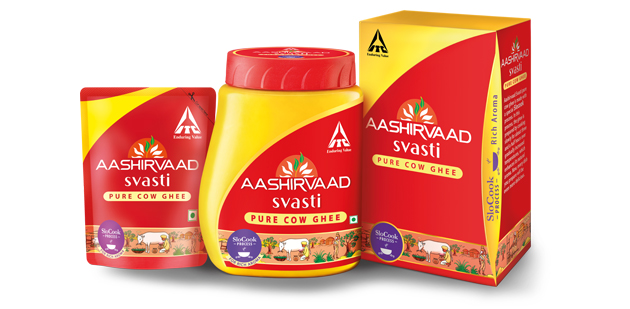VEG: (186, 210, 198, 222), (348, 215, 359, 225)
